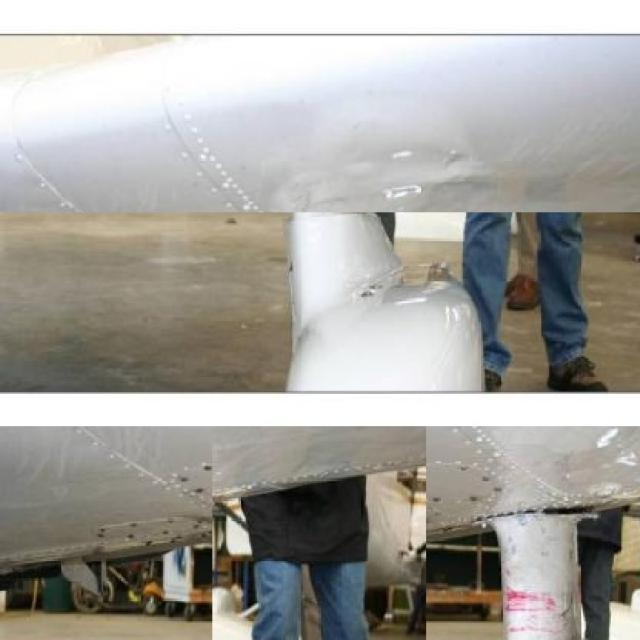dent: (381, 181, 434, 206)
